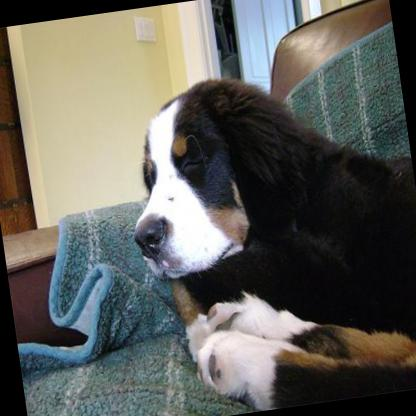Bernese_mountain_dog: (111, 50, 416, 416)
